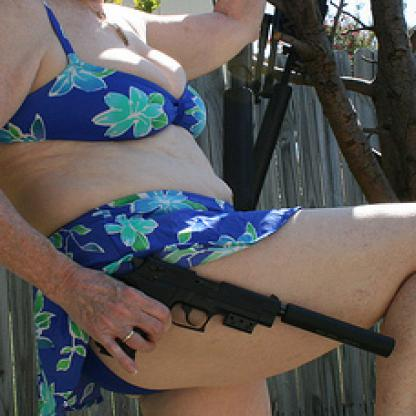gun: (84, 248, 401, 391)
